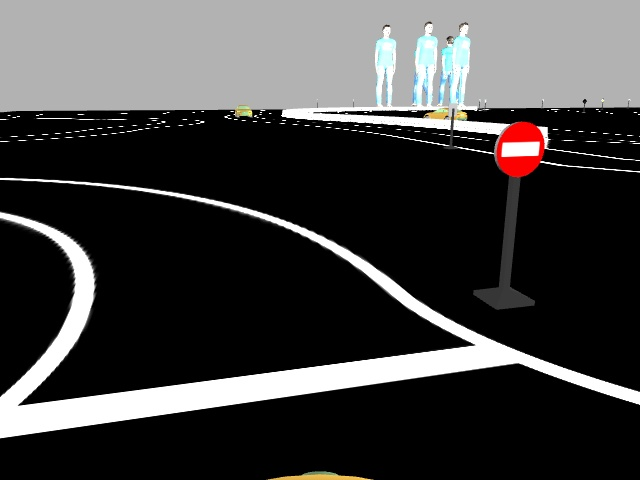NoEntry: (489, 120, 546, 178)
